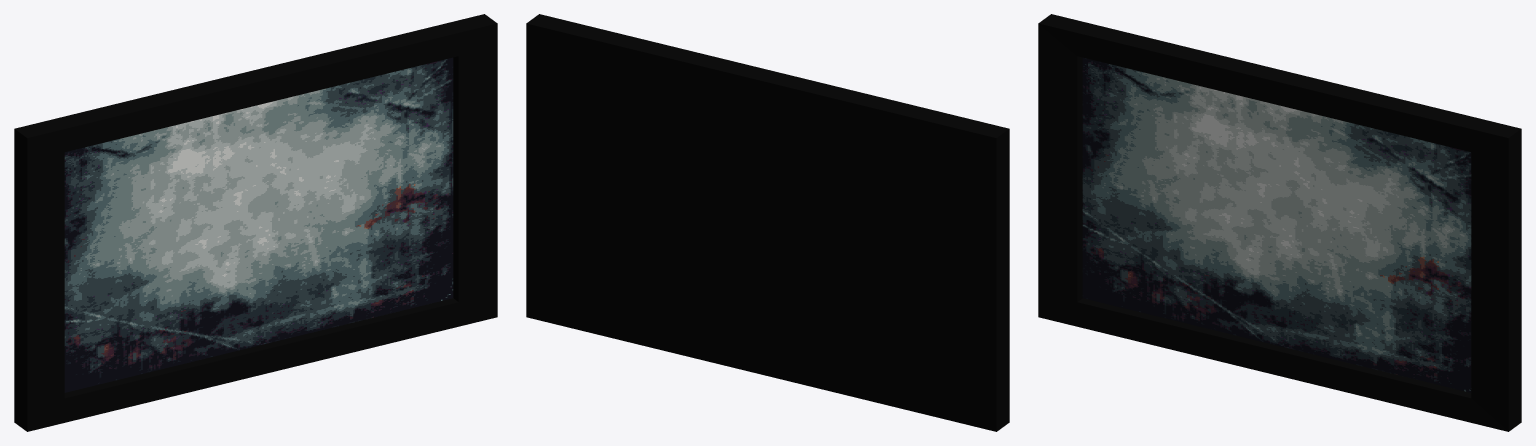
The model's file is espejo.fbx.
The picture shows the model from 3 angles, left to right: view 1: azimuth 30°, elevation 25°; view 2: azimuth 150°, elevation 25°; view 3: azimuth 330°, elevation 25°; orthographic projection.
Parts seen in each view (by area): view 1: espejo.001; view 2: espejo.001; view 3: espejo.001.
Boxes of the visible parts, x1,y1,x2,y2 form: espejo.001: [14, 14, 497, 431]; espejo.001: [526, 14, 1009, 431]; espejo.001: [1038, 14, 1521, 431].
Size of the model in its own units: 1.64 by 0.9761 by 0.0781.
Materials: 2 (1 with a texture image).
